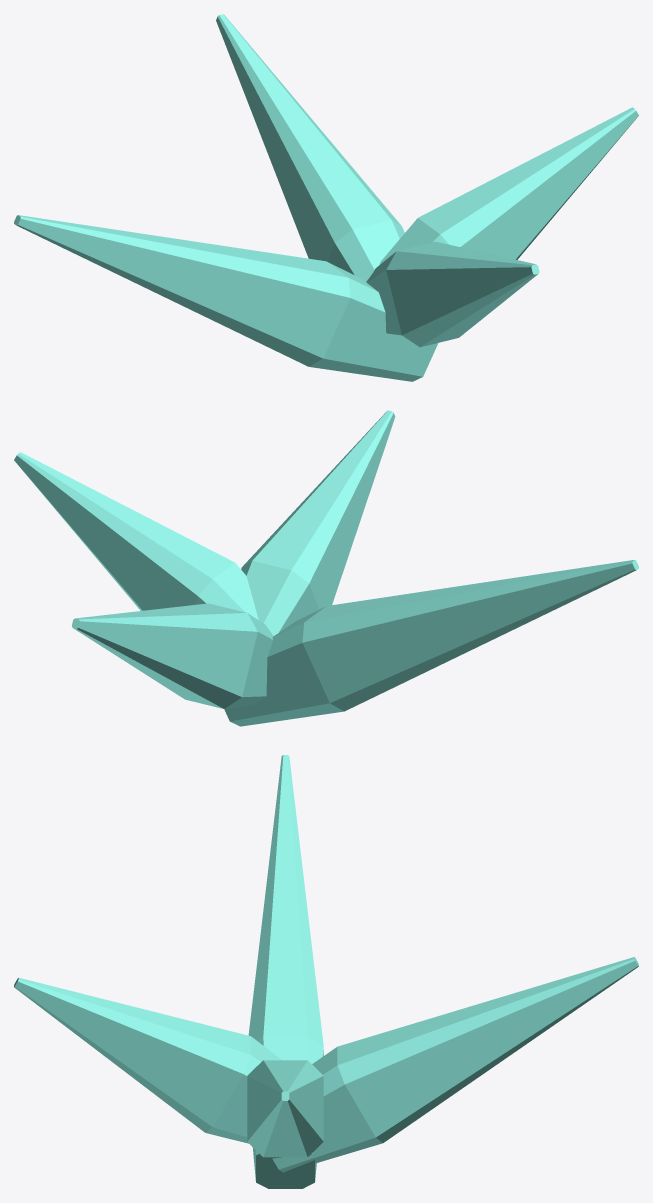
Rendered from Tracer.fbx.
The picture shows the model from 3 angles, top to bottom: view 1: azimuth 30°, elevation 25°; view 2: azimuth 150°, elevation 25°; view 3: azimuth 270°, elevation 25°; orthographic projection.
Parts seen in each view (by area): view 1: Shard.002, Shard.001, Shard, Shard.003; view 2: Shard.002, Shard, Shard.001, Shard.003; view 3: Shard.001, Shard.003, Shard.002, Shard.
Boxes of the visible parts, left/top/right/bottom form: Shard.002: left=14, top=215, right=438, bottom=381; Shard.001: left=216, top=14, right=404, bottom=281; Shard: left=379, top=107, right=638, bottom=264; Shard.003: left=366, top=241, right=539, bottom=347; Shard.002: left=224, top=559, right=638, bottom=726; Shard: left=14, top=452, right=258, bottom=619; Shard.001: left=72, top=603, right=273, bottom=708; Shard.003: left=241, top=410, right=395, bottom=635; Shard.001: left=272, top=957, right=638, bottom=1172; Shard.003: left=14, top=977, right=281, bottom=1143; Shard.002: left=248, top=755, right=323, bottom=1188; Shard: left=247, top=1060, right=323, bottom=1157.
Bounding box in the file's own units: 0.1301 × 0.0506 × 0.115.
